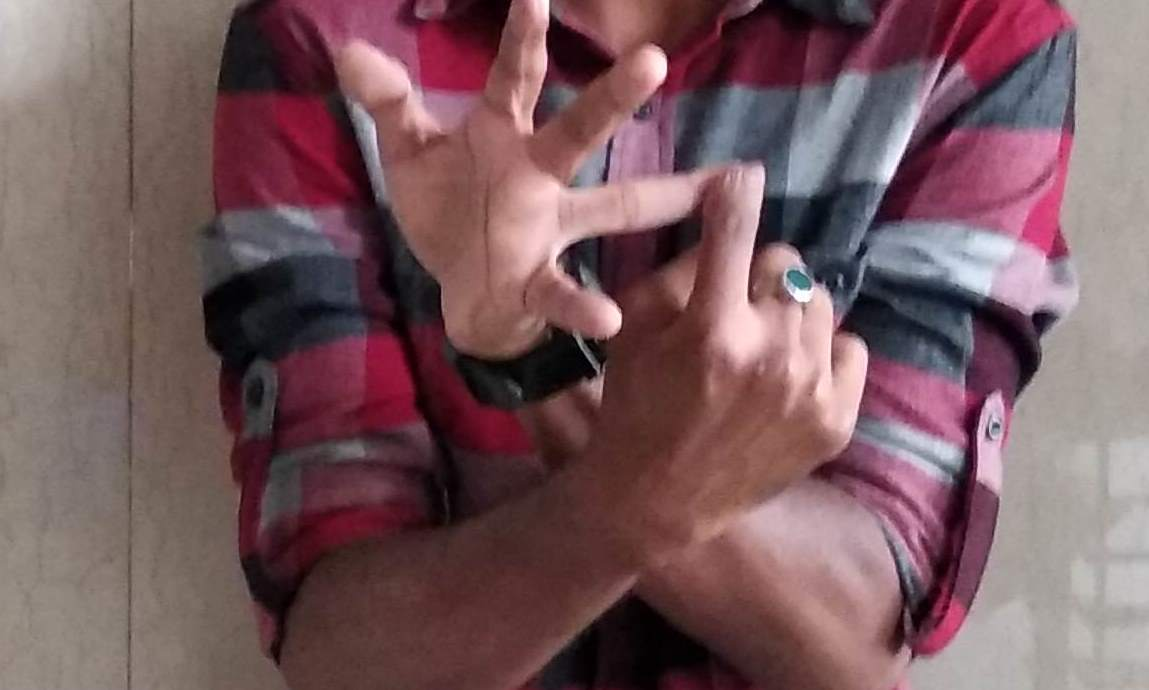e: (415, 18, 856, 409)
